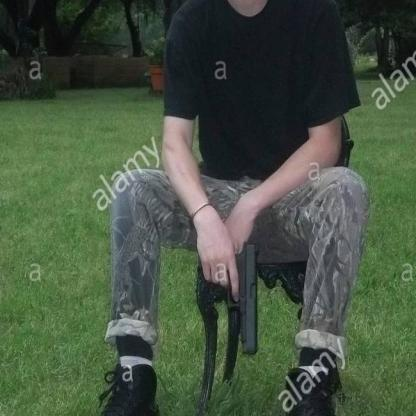gun: (194, 242, 260, 357)
